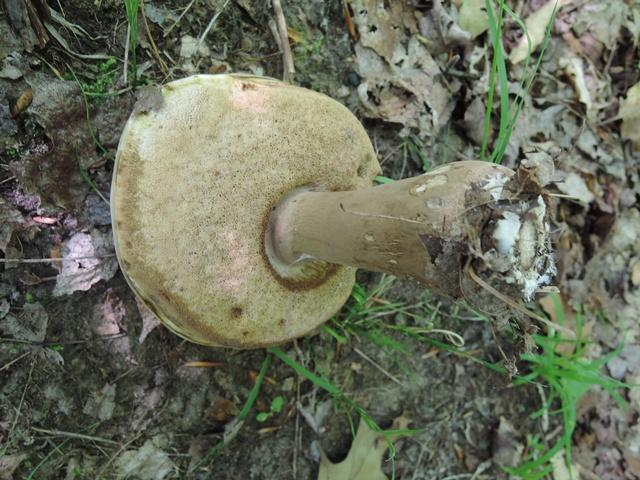poisonous_mushroom: (108, 71, 558, 351)
